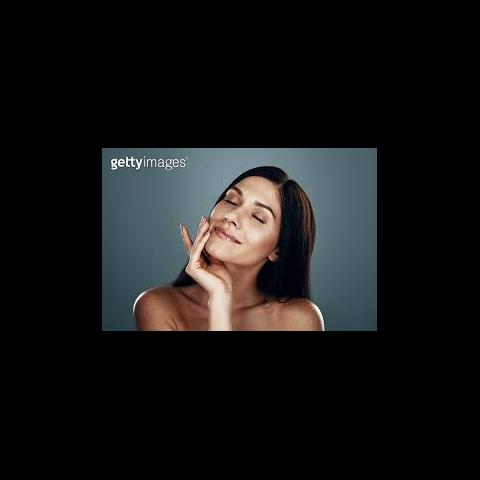closed: (215, 184, 280, 228)
